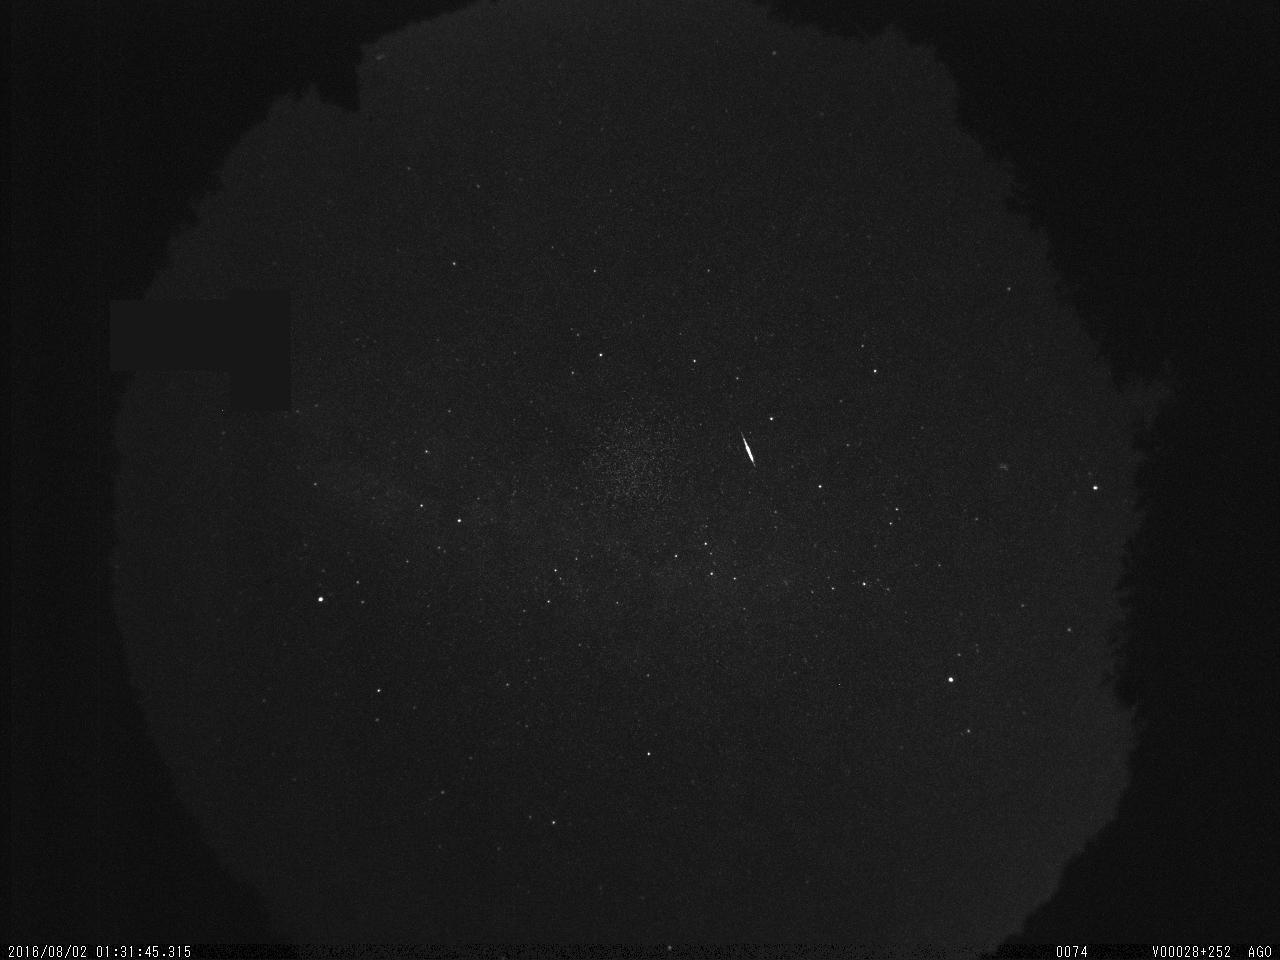Meteor: (738, 429, 757, 467)
